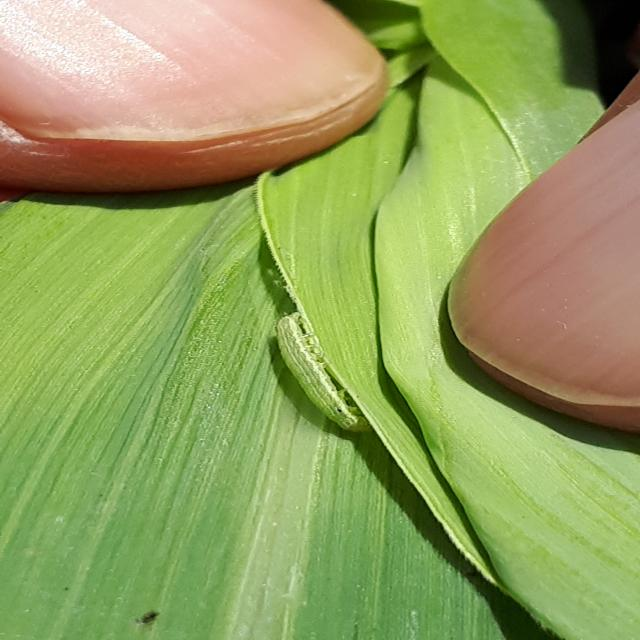armyworm: (253, 309, 369, 444)
